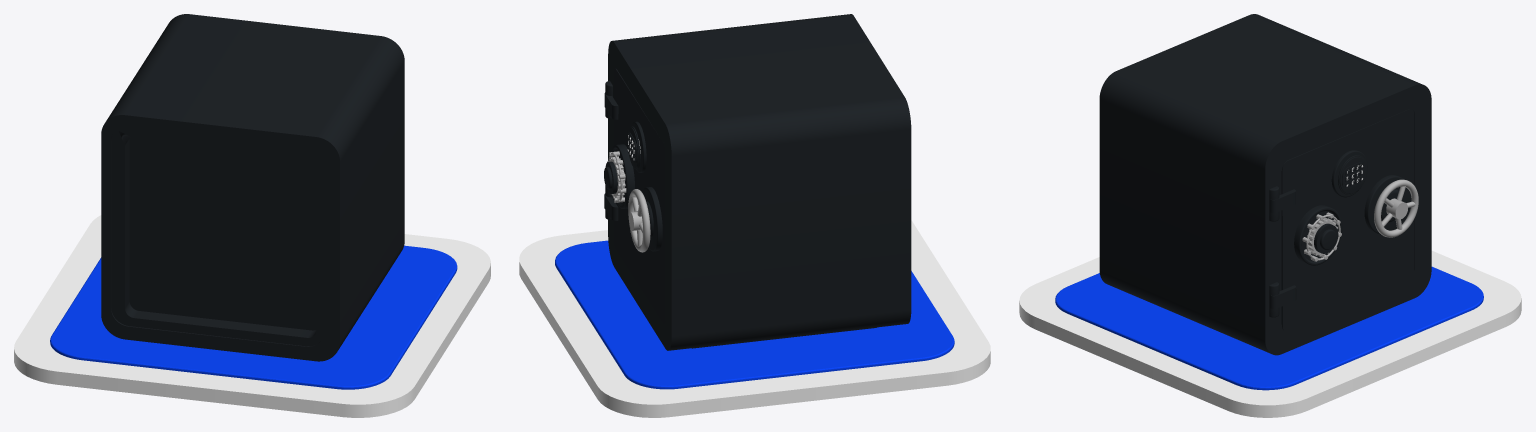
Rendered from Personal_Account.glb.
3 renders of one model, left to right at view 1: azimuth 30°, elevation 25°; view 2: azimuth 150°, elevation 25°; view 3: azimuth 270°, elevation 25°, orthographic. The views are drawn at different scales.
Parts seen in each view (by area): view 1: BOX, T1.016, E1.016; view 2: BOX, T1.016, E1.016, DV, Torus; view 3: BOX, DV, T1.016, E1.016, Torus, Cylinder.1_0, Cylinder_3.
Part boxes in pixels (x1,y1,x2,y2): BOX: (101, 14, 404, 361); T1.016: (14, 215, 490, 417); E1.016: (50, 245, 457, 389); BOX: (608, 14, 911, 350); T1.016: (519, 220, 990, 417); E1.016: (555, 240, 954, 389); DV: (604, 68, 665, 323); Torus: (628, 189, 650, 252); BOX: (1099, 14, 1431, 355); DV: (1269, 109, 1414, 331); T1.016: (1019, 250, 1521, 417); E1.016: (1055, 266, 1483, 390); Torus: (1374, 179, 1418, 237); Cylinder.1_0: (1302, 212, 1341, 261); Cylinder_3: (1331, 150, 1367, 197).
Bounding box in the file's own units: 2.42 × 1.24 × 2.42.
